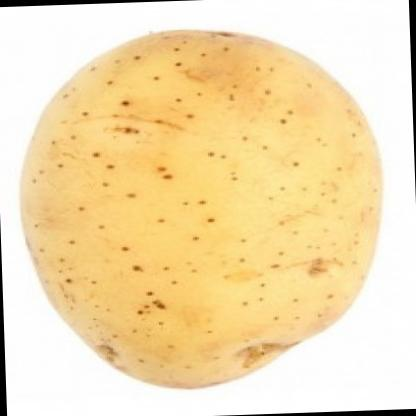potato: (10, 19, 392, 397)
